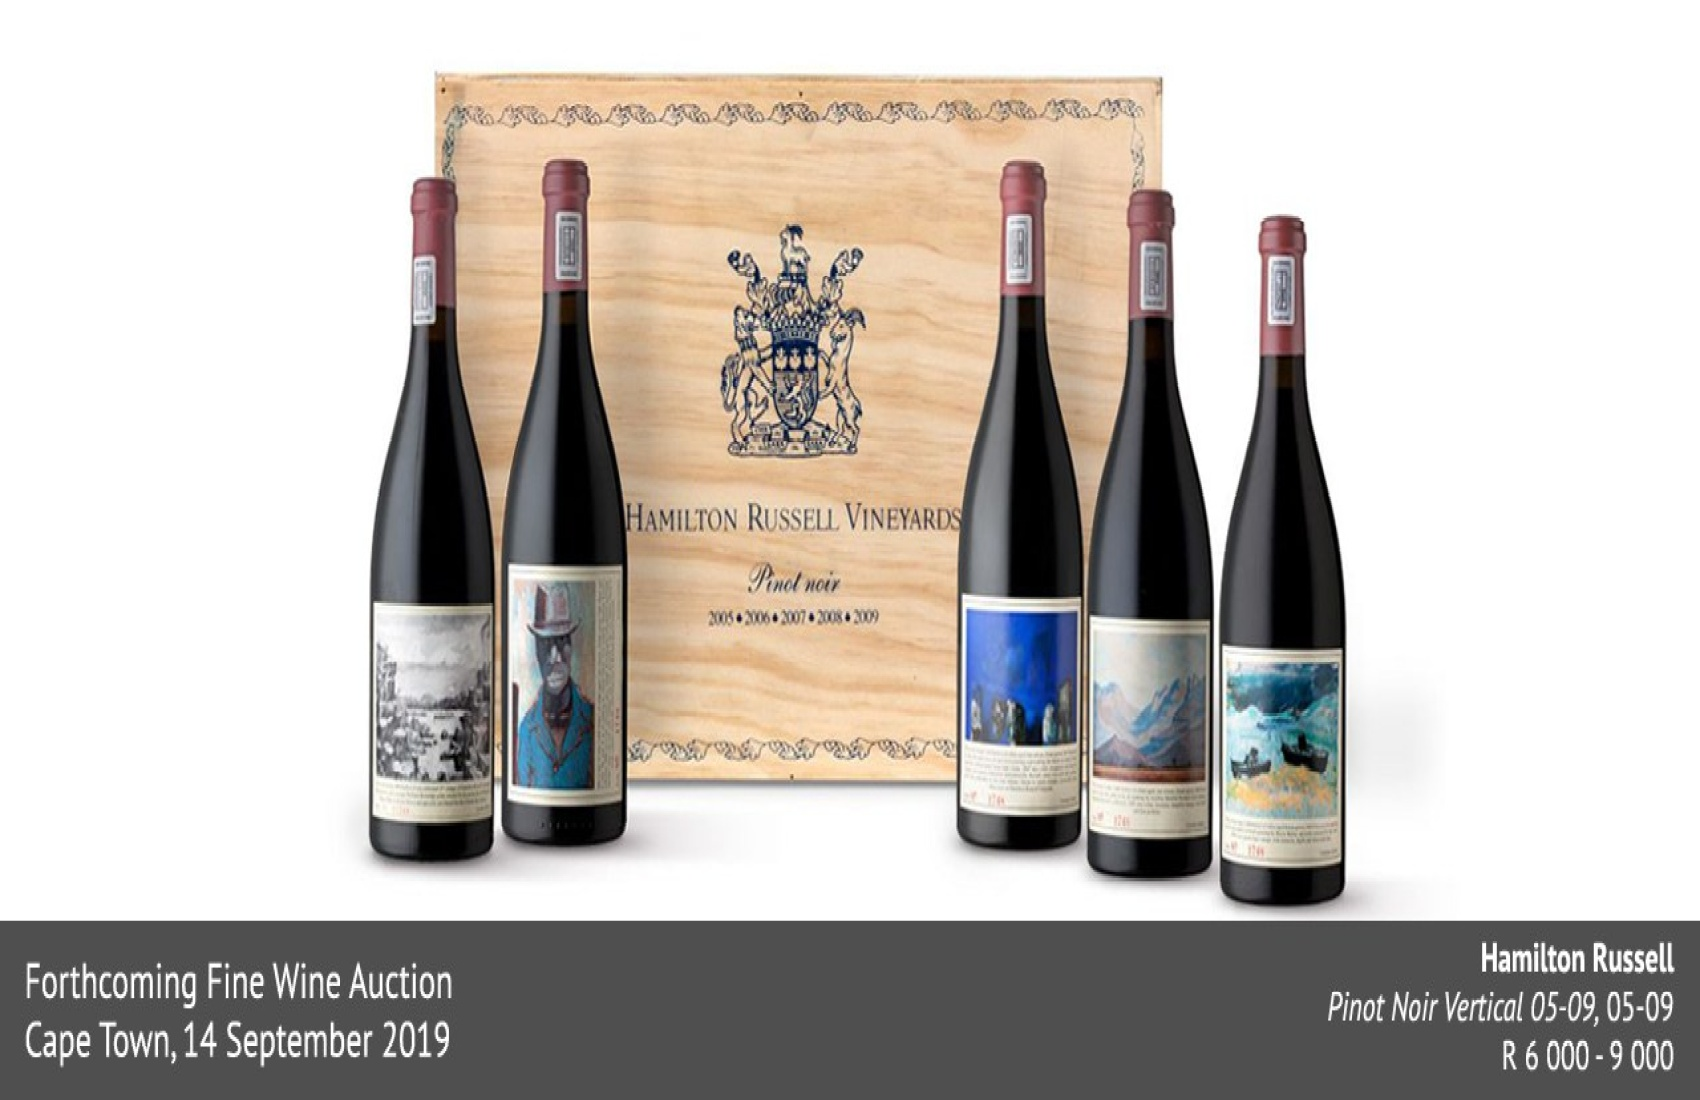wine: (1222, 229, 1342, 894), (372, 182, 492, 847), (957, 175, 1076, 840), (1092, 212, 1211, 877), (501, 166, 620, 831)
